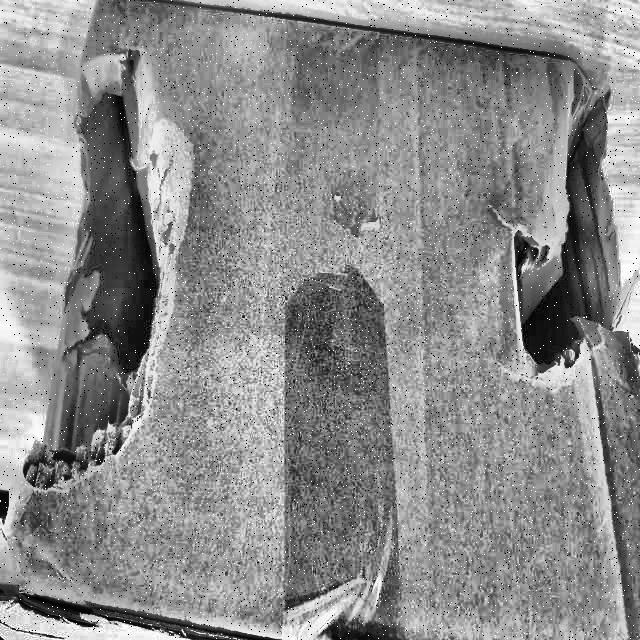box: (0, 1, 639, 640)
hole: (61, 56, 169, 472), (510, 81, 640, 383)
